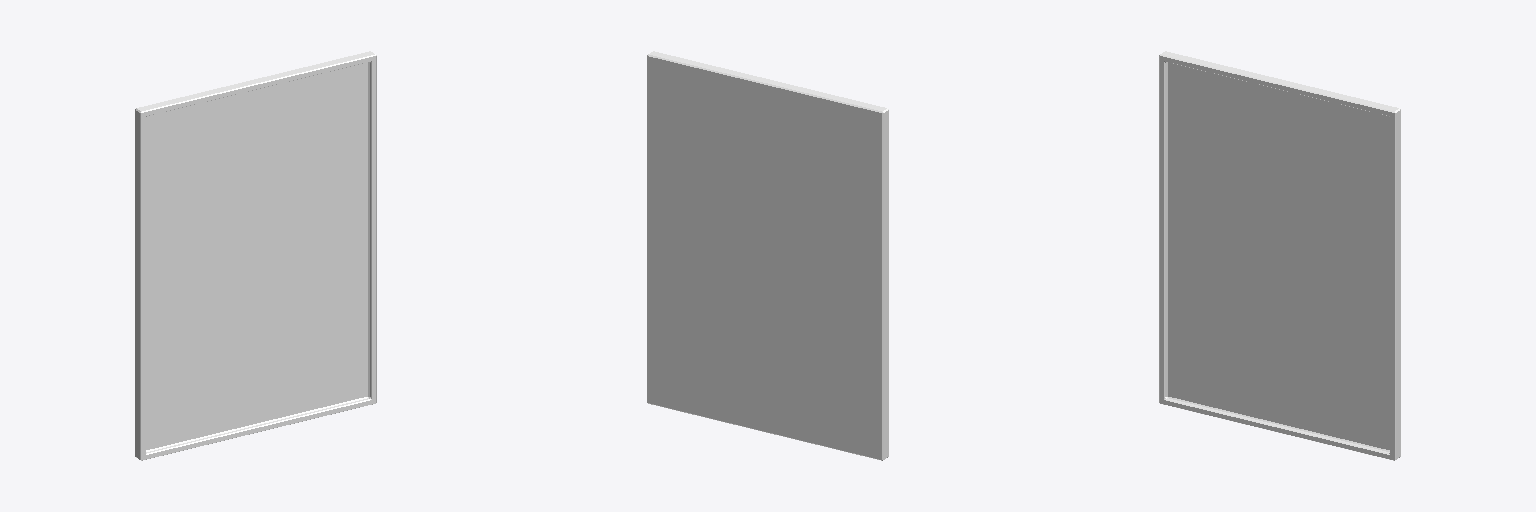
3 renders of one model, left to right at view 1: azimuth 30°, elevation 25°; view 2: azimuth 150°, elevation 25°; view 3: azimuth 330°, elevation 25°, orthographic.
Visible parts, largest first — view 1: aws_PortraitC_01_visualMesh; view 2: aws_PortraitC_01_visualMesh; view 3: aws_PortraitC_01_visualMesh.
Part boxes in pixels (x1,y1,x2,y2): aws_PortraitC_01_visualMesh: (135, 51, 376, 460); aws_PortraitC_01_visualMesh: (647, 51, 888, 460); aws_PortraitC_01_visualMesh: (1159, 51, 1400, 460).
Bounding box in the file's own units: 0.4904 × 0.6918 × 0.0214.